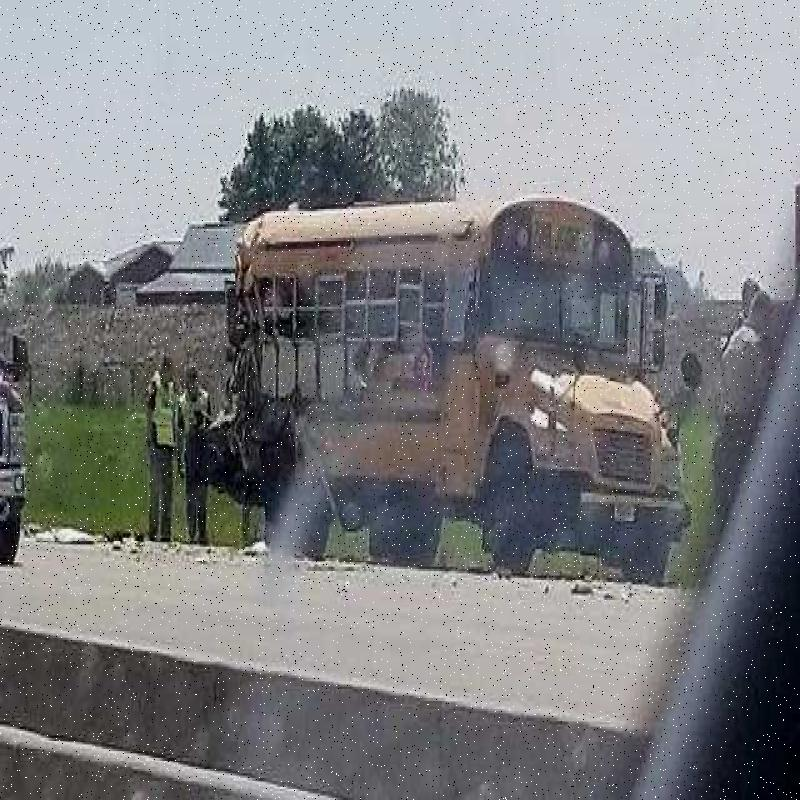bus: (234, 139, 671, 567)
